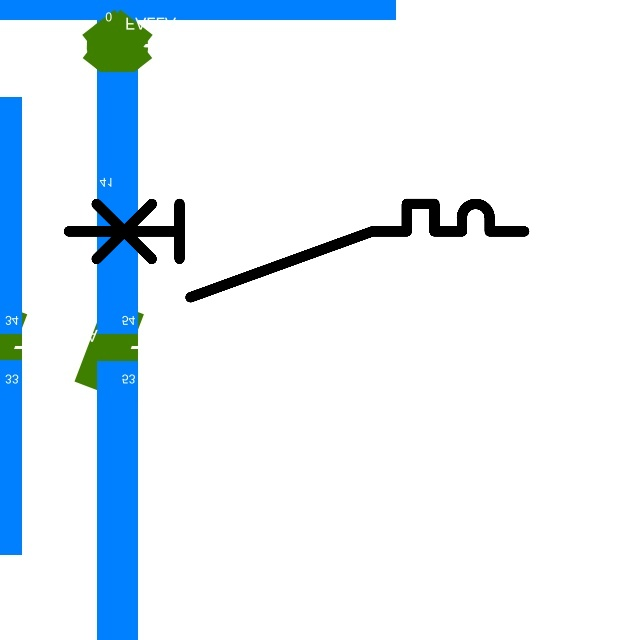interruptor_termomagnetico: (57, 192, 536, 309)
